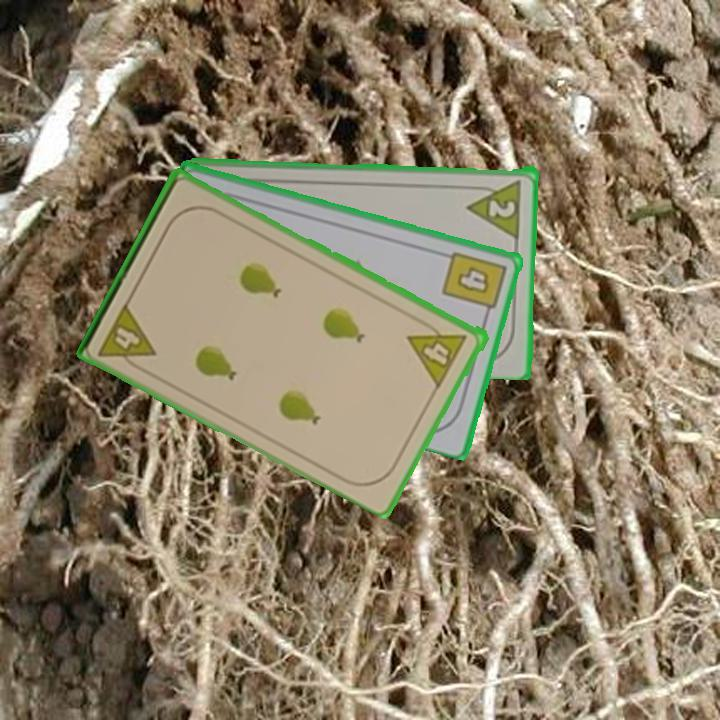2p: (464, 176, 524, 239)
4b: (438, 247, 509, 321)
4p: (94, 299, 160, 376), (405, 314, 471, 389)
